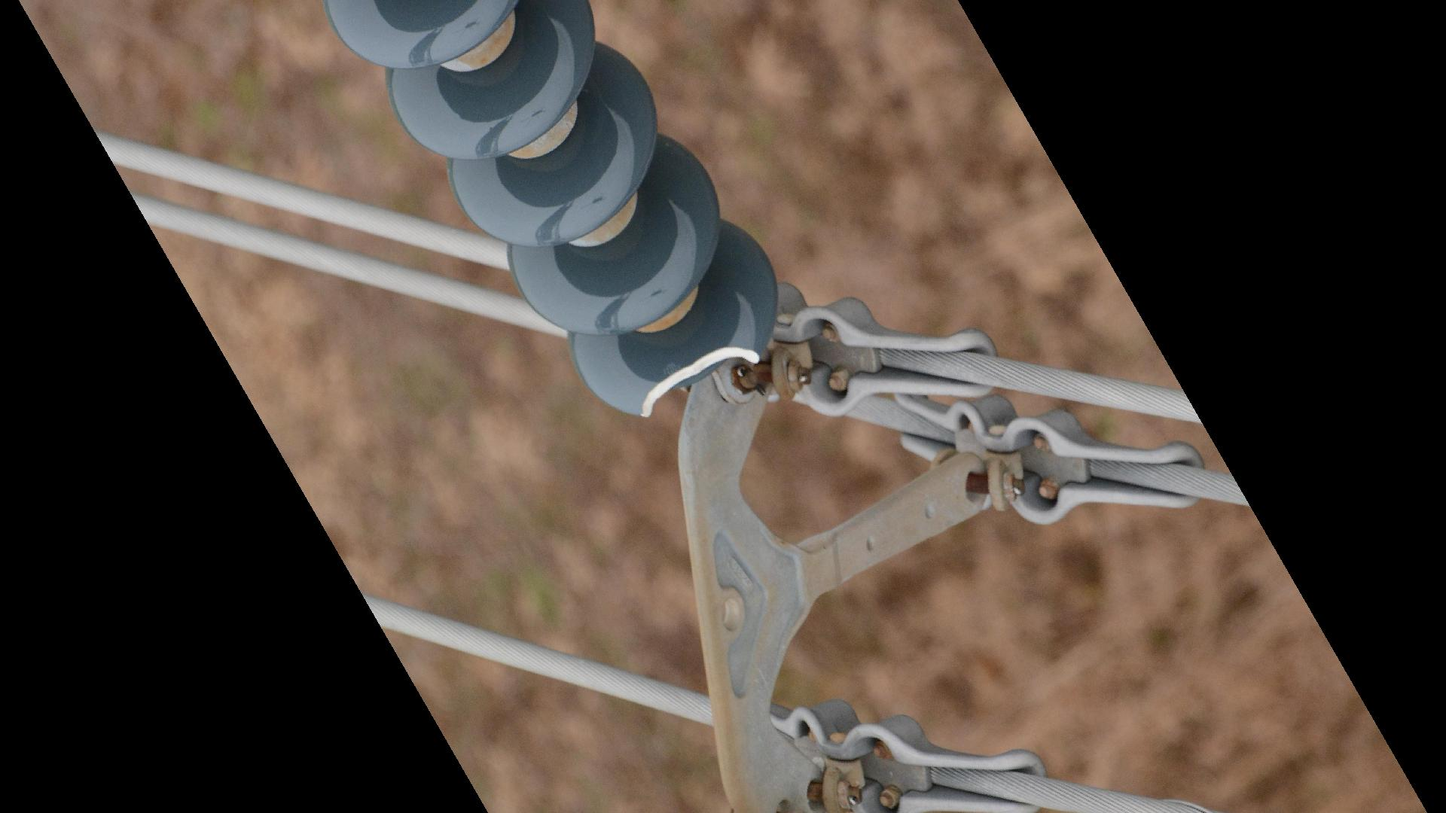insulator: (317, 1, 789, 435)
insulator_breakage: (624, 332, 773, 428)
